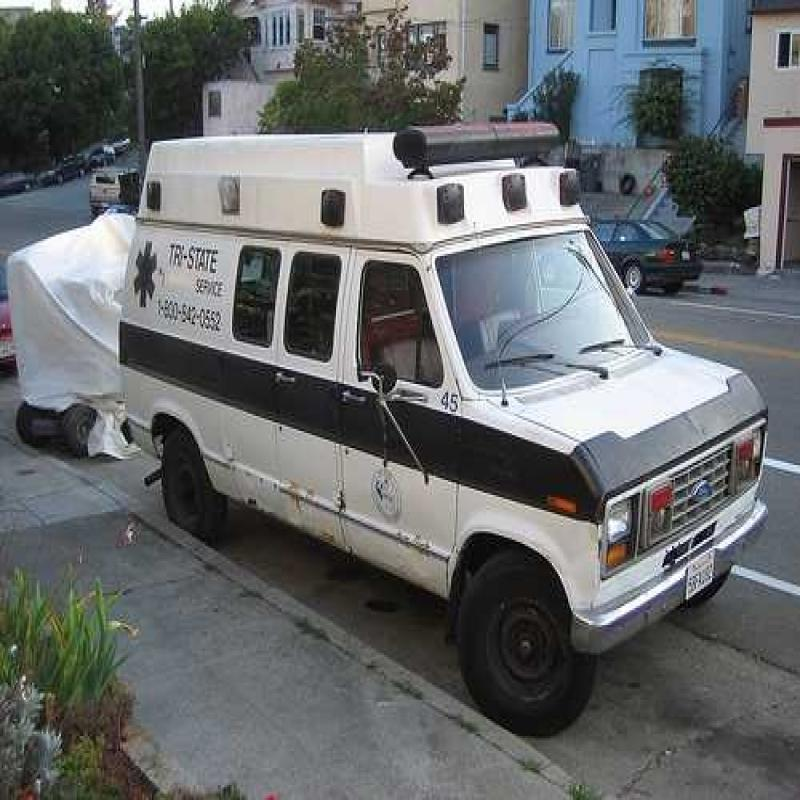AmbulanceSiren: (386, 92, 597, 178)
